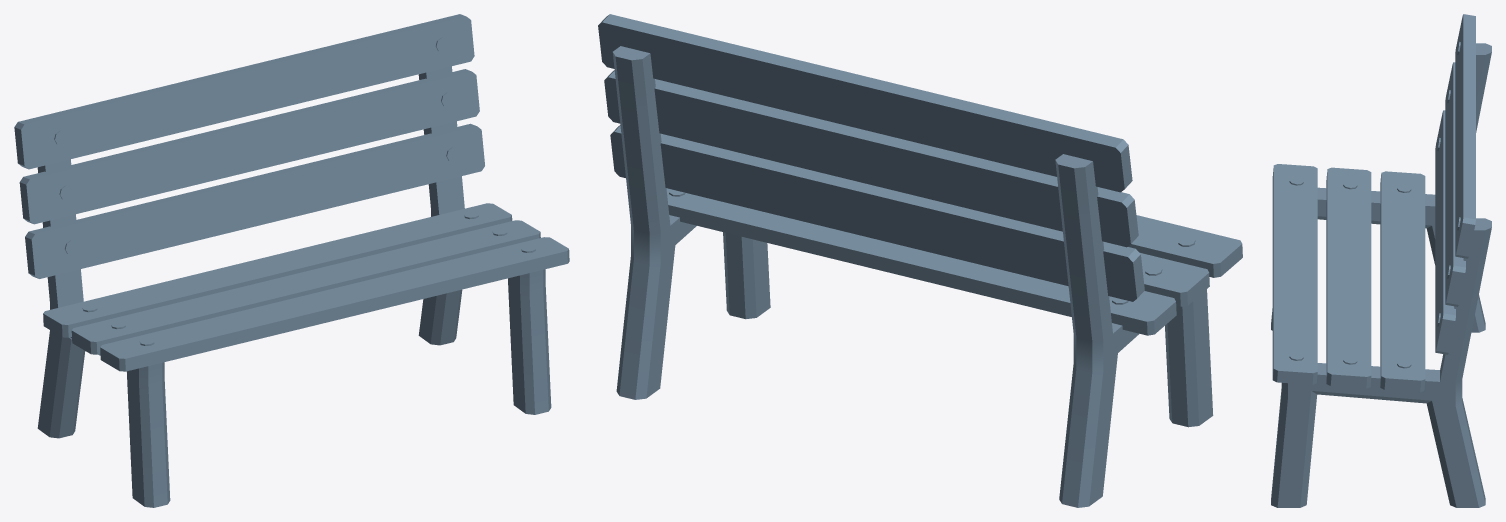
The model's file is Bench.fbx.
The picture shows the model from 3 angles, left to right: view 1: azimuth 30°, elevation 25°; view 2: azimuth 150°, elevation 25°; view 3: azimuth 270°, elevation 25°; orthographic projection. The views are drawn at different scales.
Parts seen in each view (by area): view 1: Bench; view 2: Bench; view 3: Bench.
Boxes of the visible parts, x1,y1,x2,y2 form: Bench: (14,14,569,507); Bench: (598,14,1242,507); Bench: (1271,14,1491,507).
Bounding box in the file's own units: 139 × 92.77 × 62.51.
